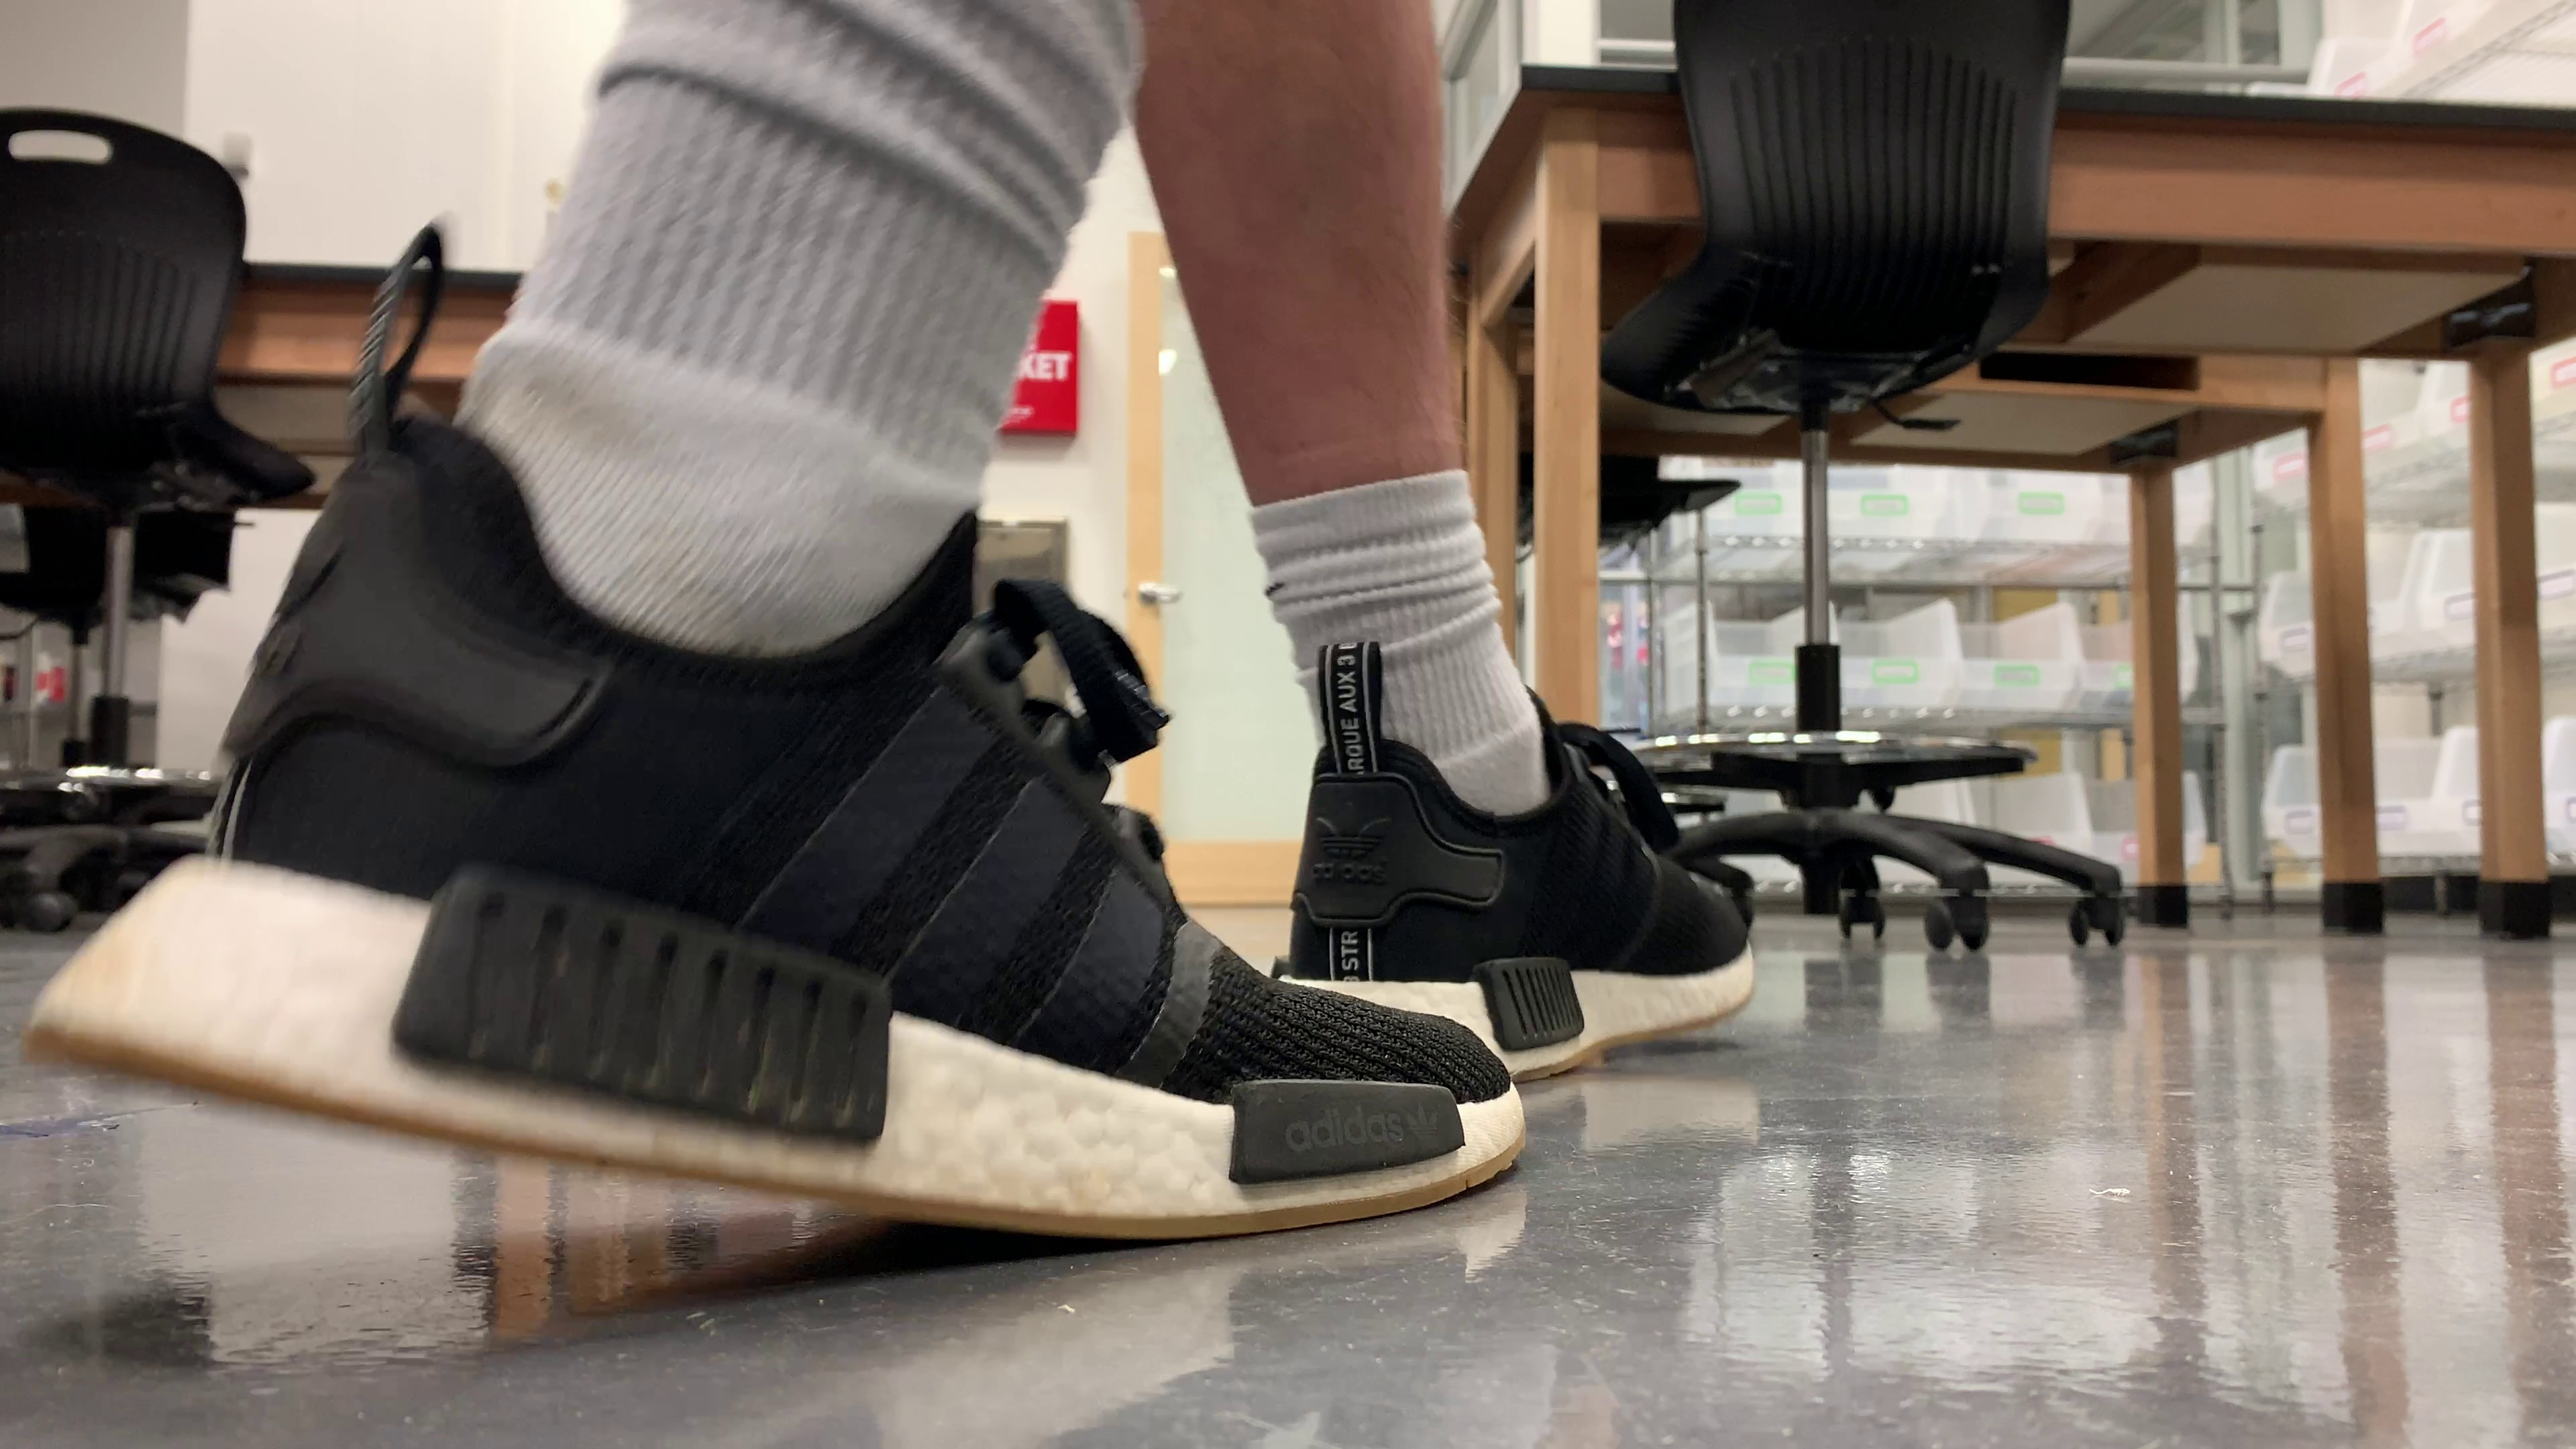shoe: (21, 414, 1529, 1246), (1269, 686, 1755, 1074)
